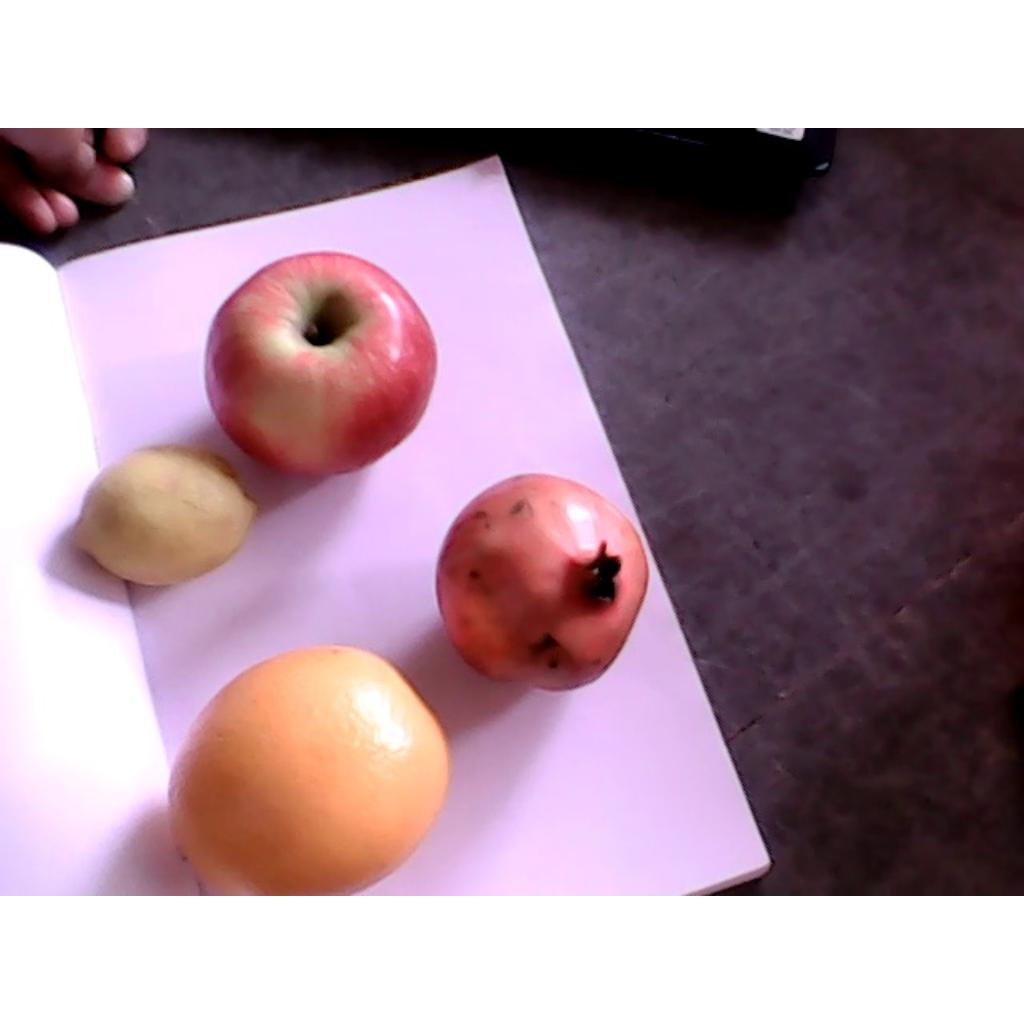apple: (205, 255, 437, 478)
lemon: (72, 443, 258, 586)
orange: (169, 648, 450, 893)
pomegranate: (435, 476, 651, 692)
